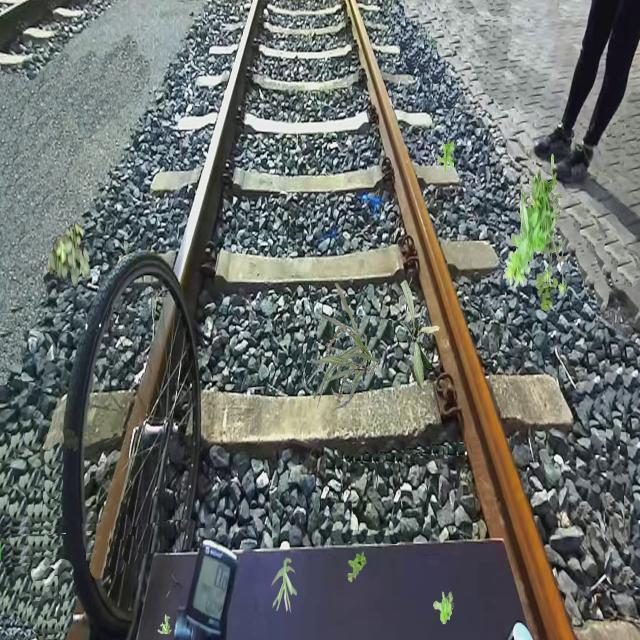Plant: (503, 153, 568, 296), (307, 283, 380, 408), (400, 279, 440, 389), (47, 221, 90, 288), (271, 557, 298, 614), (535, 271, 559, 312), (433, 592, 454, 625), (347, 550, 366, 582), (437, 140, 454, 172), (158, 614, 172, 634)
